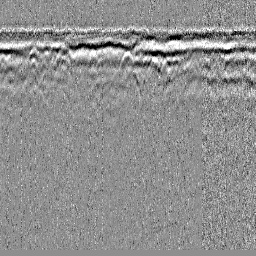cavity: (117, 49, 138, 84)
